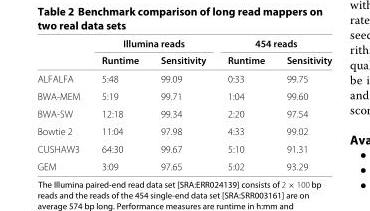table: (36, 37, 331, 171)
table column: (149, 37, 216, 171), (90, 37, 149, 171), (216, 37, 275, 171), (275, 37, 331, 171), (36, 37, 90, 171)
table column header: (36, 37, 331, 69)
table row: (36, 51, 331, 69), (36, 69, 331, 87), (36, 104, 331, 122), (36, 139, 331, 157), (36, 87, 331, 104), (36, 122, 331, 139), (36, 37, 331, 51), (36, 157, 331, 171)
table spanning cell: (90, 37, 216, 51), (216, 37, 331, 51)
